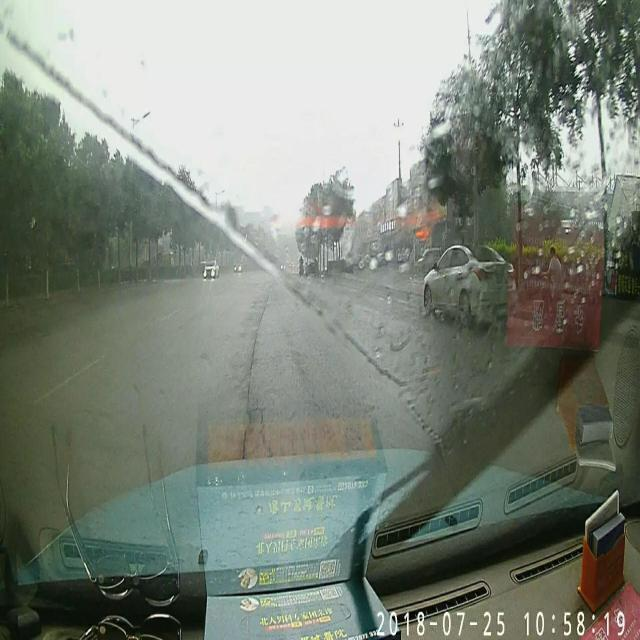car: (420, 242, 518, 326), (200, 260, 220, 280), (301, 254, 319, 276), (232, 261, 244, 271)
